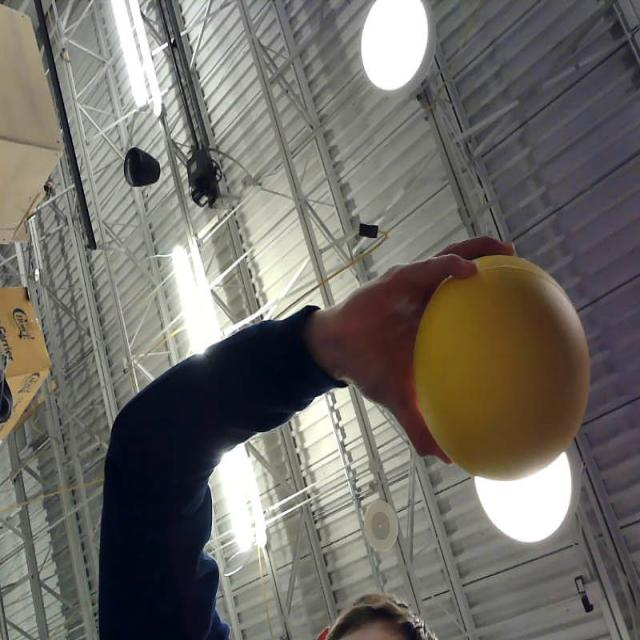Fuel: (413, 254, 591, 482)
